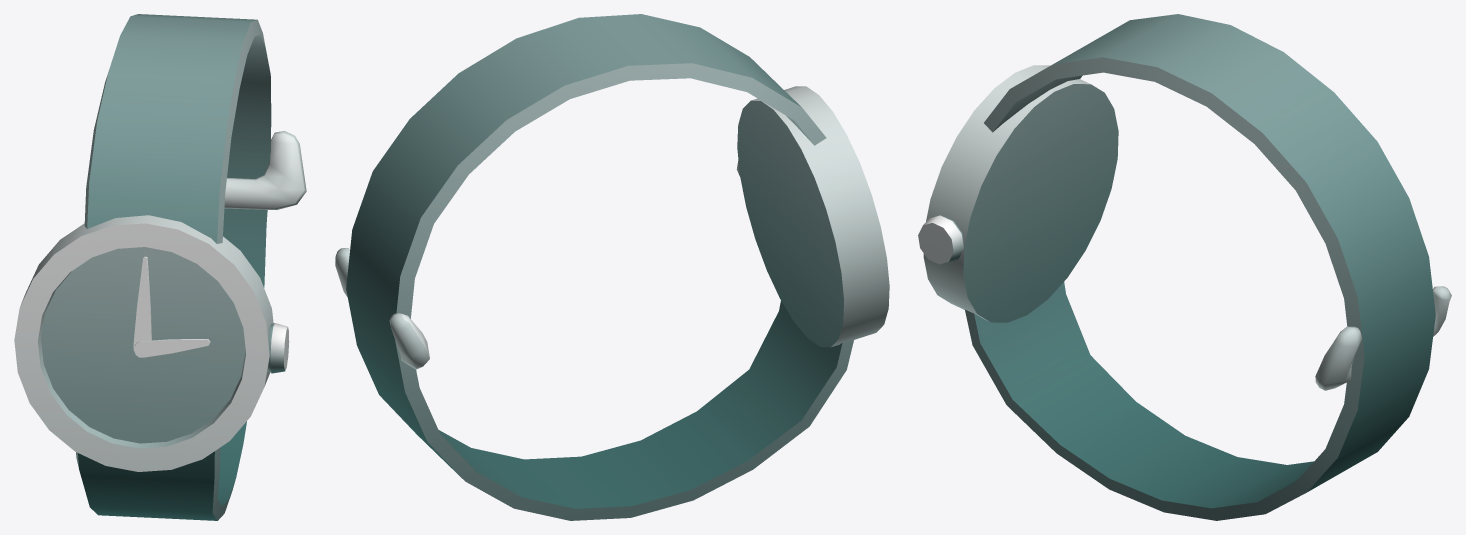
File: Integrity_Watch.fbx
3 views of the same model, side by side, from view 1: azimuth 30°, elevation 25°; view 2: azimuth 150°, elevation 25°; view 3: azimuth 270°, elevation 25° (orthographic).
Visible parts, largest first — view 1: Integrity_Watch; view 2: Integrity_Watch; view 3: Integrity_Watch.
Part boxes in pixels (x1,y1,x2,y2): Integrity_Watch: (14, 14, 306, 520); Integrity_Watch: (335, 14, 889, 520); Integrity_Watch: (918, 14, 1451, 520).
Size of the model in its own units: 8.65 by 8.88 by 9.57.
